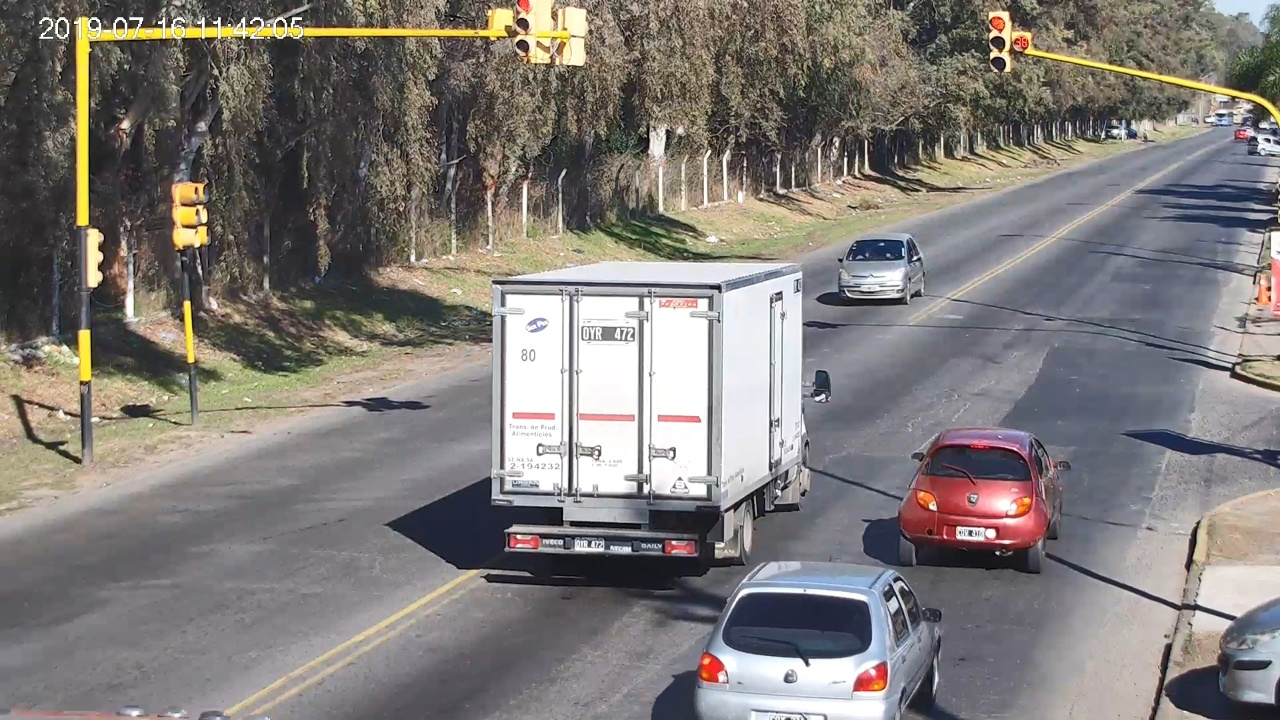car: (693, 562, 942, 720), (898, 428, 1070, 574)
traffic light: (989, 12, 1009, 72)
truck: (492, 261, 832, 565)
